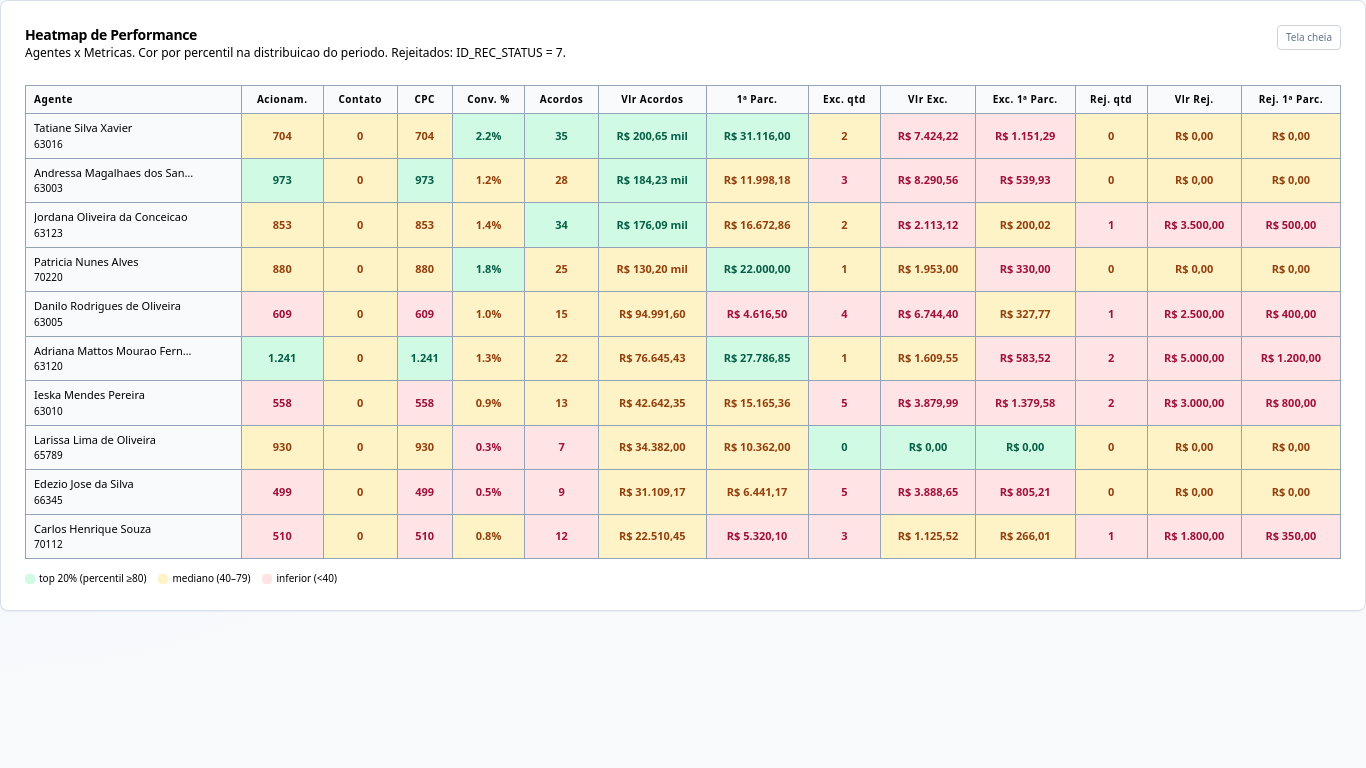
Test case: PerformanceHeatmap › opens fullscreen overlay on maximize click
Click the button with test id "heatmap-maximize" at coordinates (1309, 38), box [1277,25,1341,50]
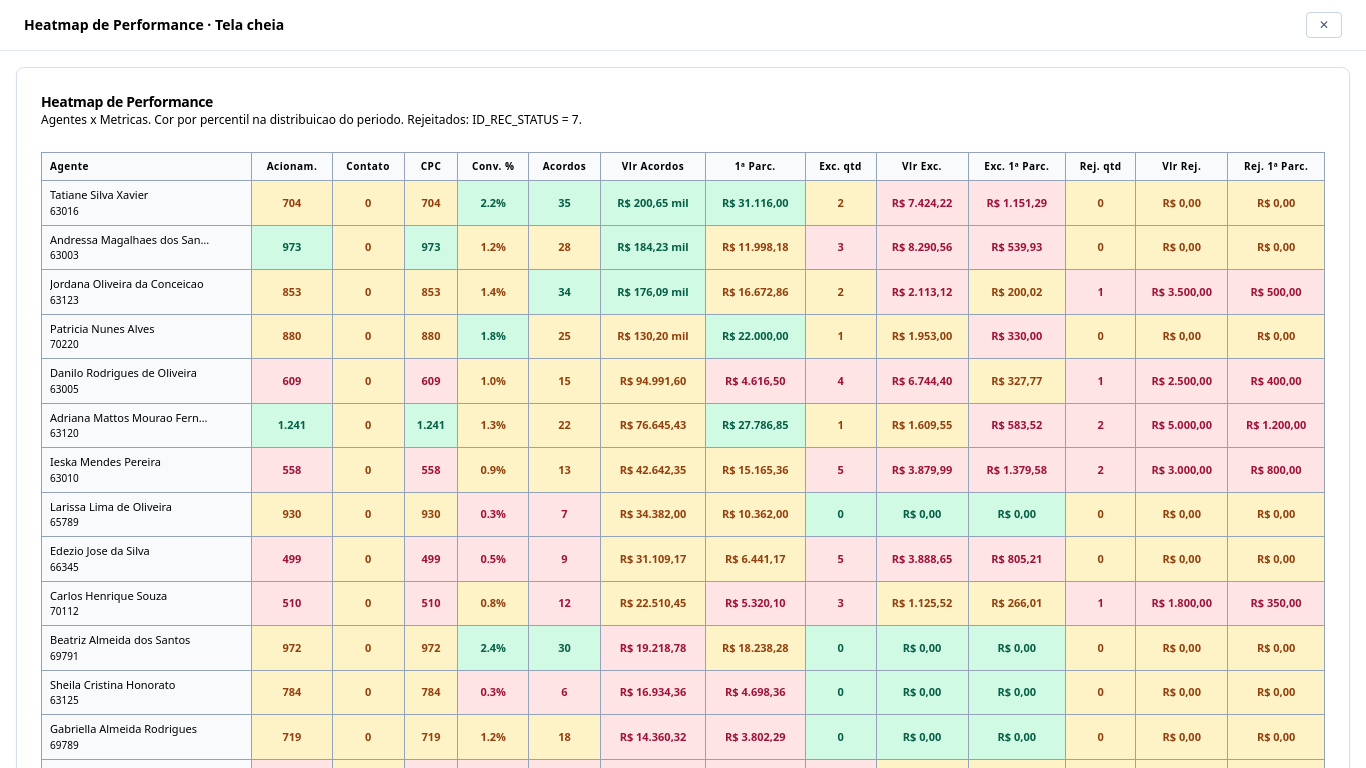
Now the element with test id "heatmap-overlay" is shown
Now the button with test id "heatmap-minimize" is shown, box [1306,12,1342,38]
